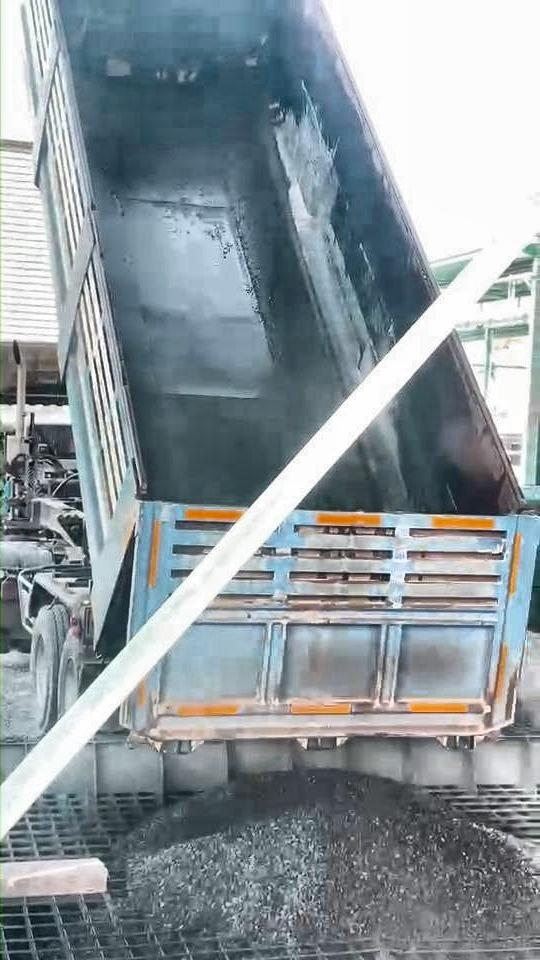gravel: (122, 771, 540, 944)
